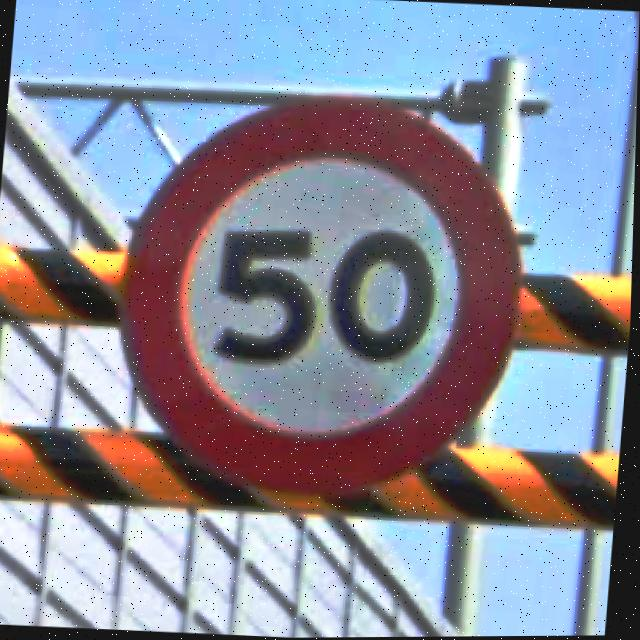max50: (103, 80, 538, 511)
